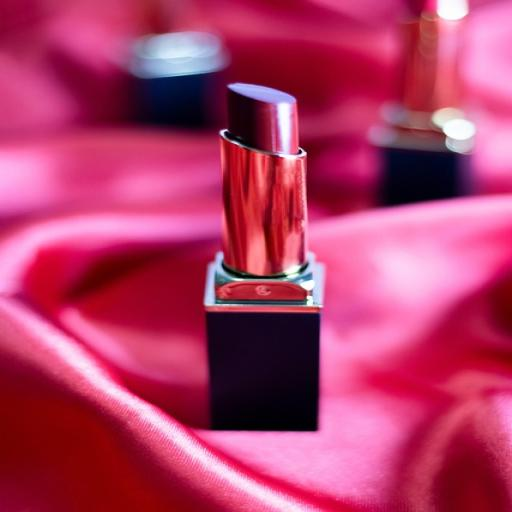lipstick: (206, 84, 323, 430), (372, 0, 474, 204)
